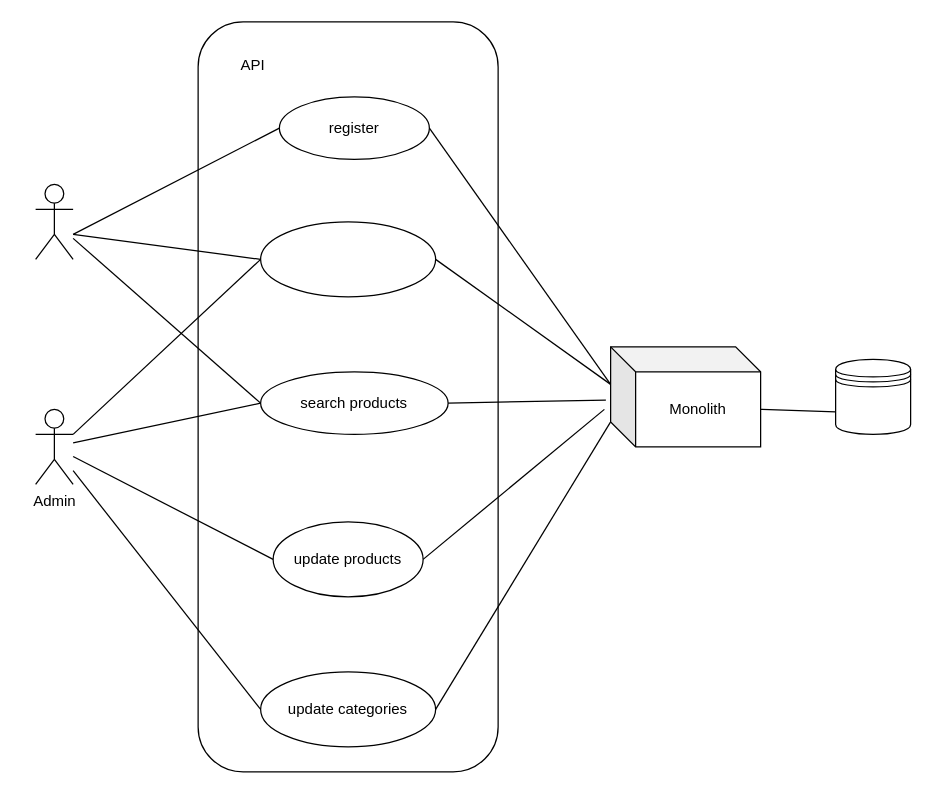
Some shapes in this 933 by 794 pixel diagram are drawn without their labels. Each missing label, with the box of its shape:
Customer: (34, 183, 73, 259)
DB: (834, 358, 911, 434)
login/logout: (259, 221, 436, 297)
